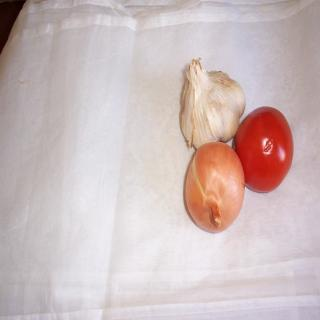Tomato: (233, 102, 297, 192)
